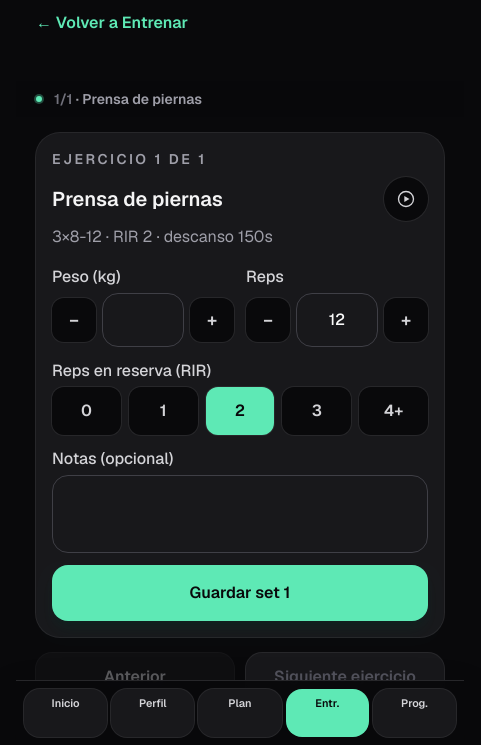
SessionRunner › puts the rest countdown in the save button's slot, and lets a tap end it
The image size is (481, 745).
Submit the form named "Guardar set 1", box [52,265,428,621]
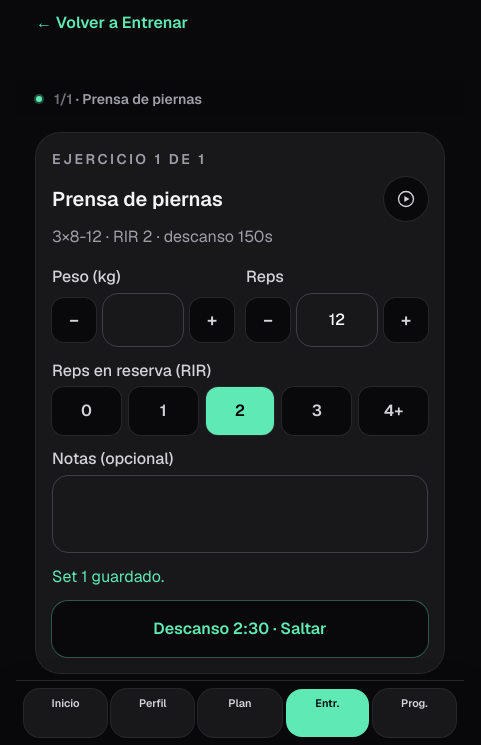
Check: the button "Guardar set" is gone
// The countdown is the skip: one tap returns the primary action.
Click the button with aria-label "Descanso, " at (240,629), box [52,601,428,657]
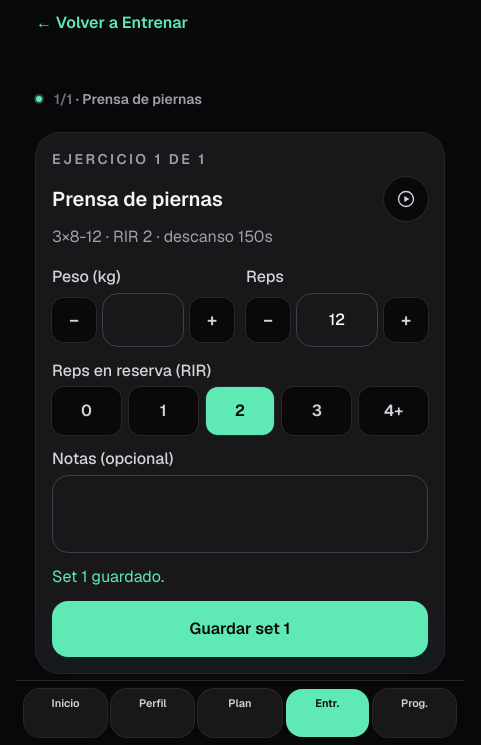
Check: the button "Guardar set 1" is shown, box [52,601,428,657]
